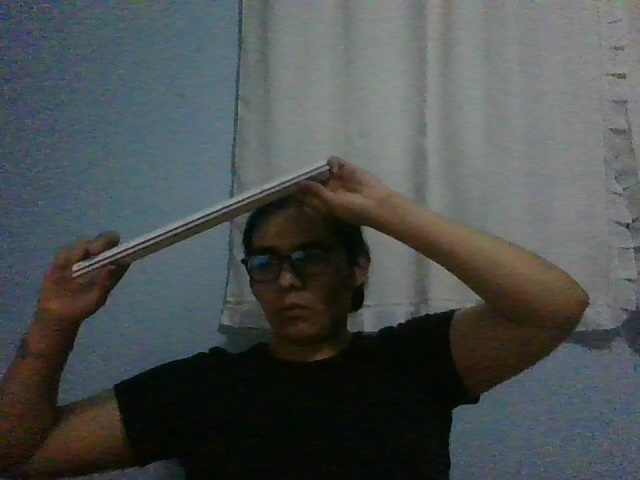regla: (71, 161, 331, 285)
